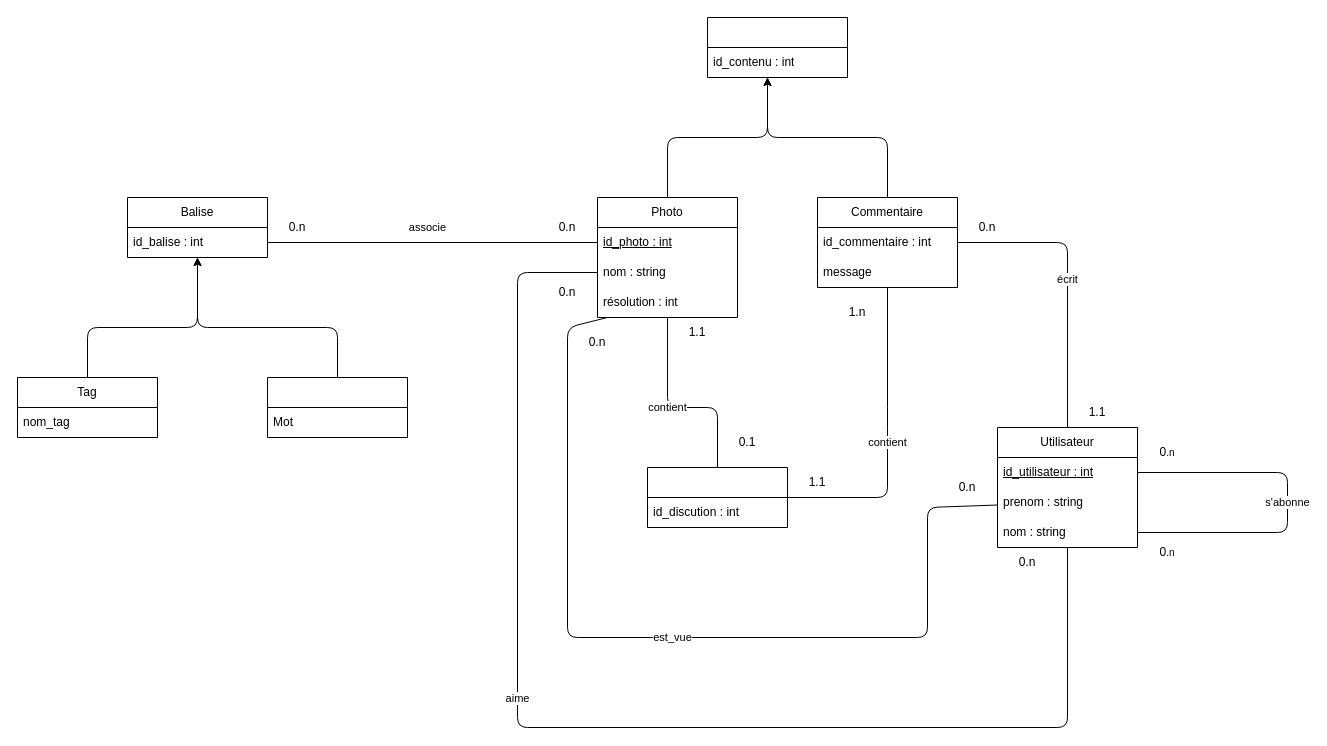
The diagram is 1327 pixels wide and 746 high, and some of its shapes have lost their labels. The box of each missing label's shape, as (x1, y1, x2, y2) in pixels:
Contenu Numéric: (706, 16, 848, 78)
Discussion: (646, 466, 788, 528)
Mot Clef: (266, 376, 408, 438)
